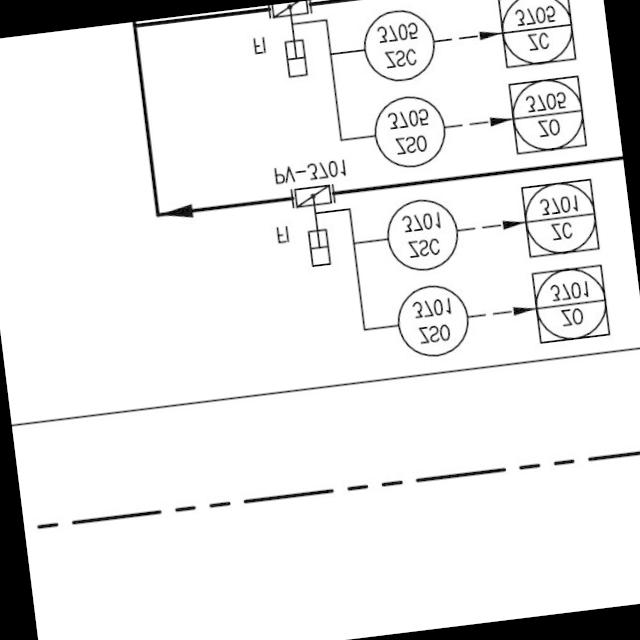BVWA: (283, 178, 348, 274), (262, 0, 326, 85)
